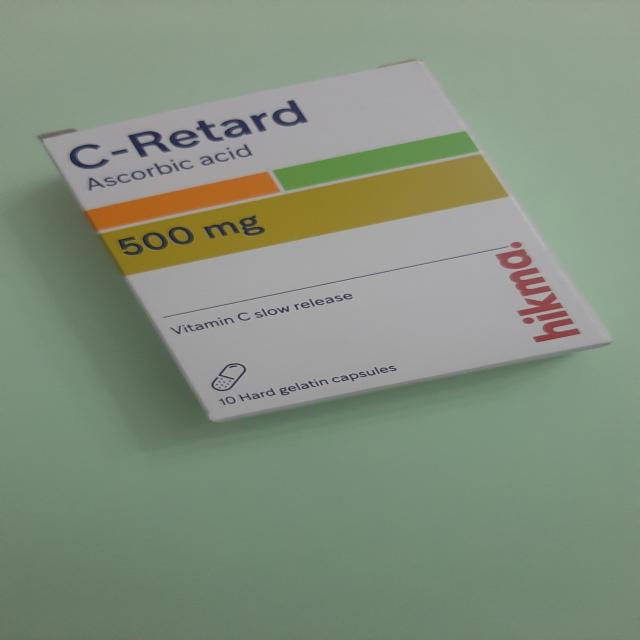C-Retard: (30, 57, 624, 430)
